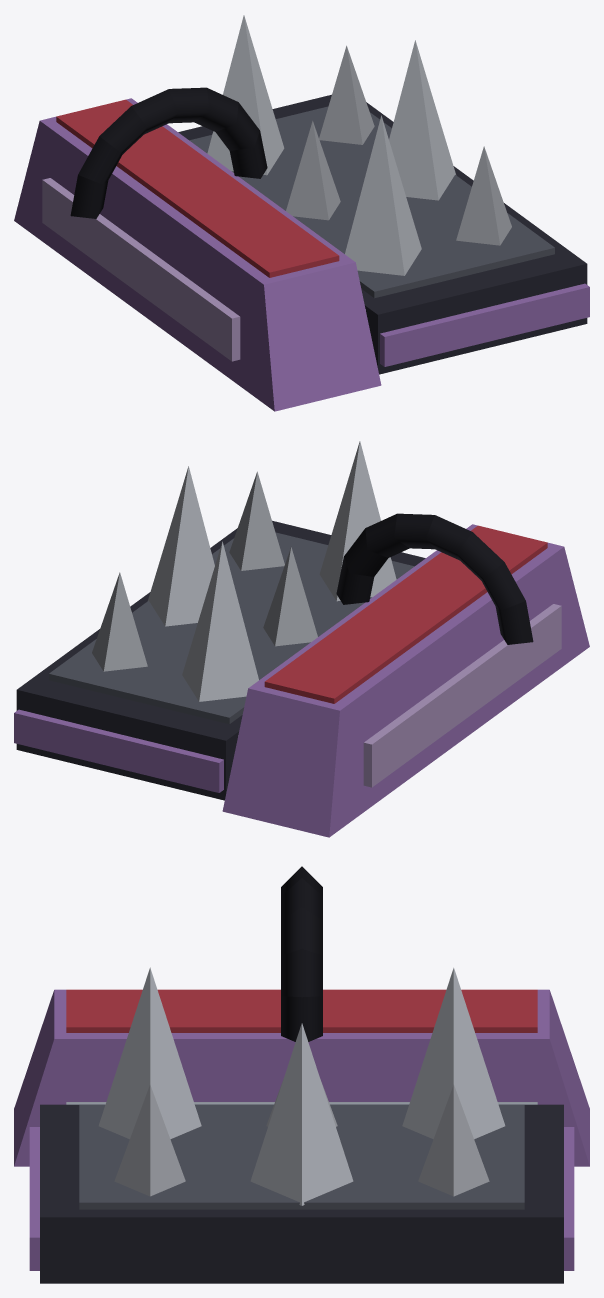
The model's file is azami_strip.glb.
The picture shows the model from 3 angles, top to bottom: view 1: azimuth 30°, elevation 25°; view 2: azimuth 150°, elevation 25°; view 3: azimuth 270°, elevation 25°; orthographic projection. The views are drawn at different scales.
Visible parts, largest first — view 1: strip_cap, strip_seg; view 2: strip_cap, strip_seg; view 3: strip_seg, strip_cap.
Part boxes in pixels (x1,y1,x2,y2): strip_cap: (14, 87, 381, 411); strip_seg: (178, 15, 589, 374); strip_cap: (222, 513, 589, 837); strip_seg: (14, 441, 425, 800); strip_seg: (29, 967, 574, 1283); strip_cap: (14, 866, 589, 1166).
Bounding box in the file's own units: 0.194 × 0.103 × 0.22.
